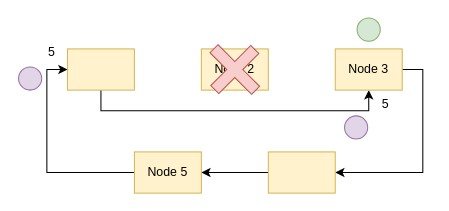
The diagram is 449 pixels wide and 211 high, and some of its shapes have lost their labels. The centre of each missing label's shape, as x and y in pixels:
Node 1: the point at 100,69
Node 4: the point at 301,172
